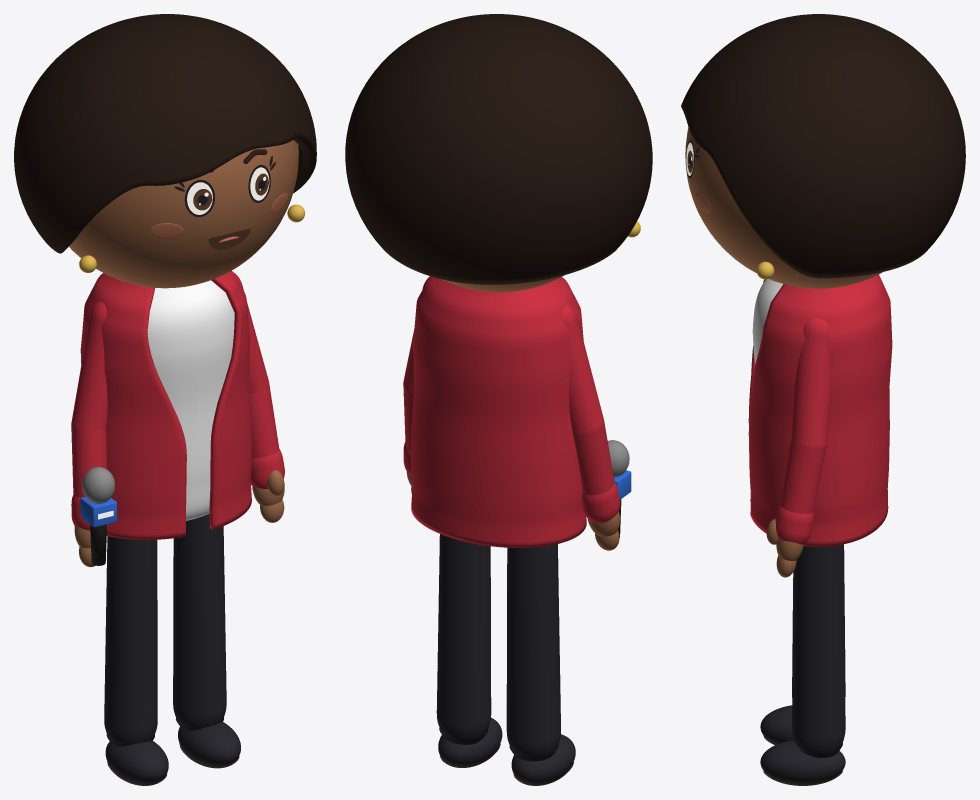
The model's file is nieuwslezeres.glb.
3 views of the same model, side by side, from view 1: azimuth 30°, elevation 25°; view 2: azimuth 150°, elevation 25°; view 3: azimuth 270°, elevation 25° (orthographic).
Parts seen in each view (by area): view 1: nieuwslezeres_haar, nieuwslezeres_jas, nieuwslezeres_hoofd, nieuwslezeres_romp, nieuwslezeres_been_R, nieuwslezeres_been_L, nieuwslezeres_bovenarm_R, nieuwslezeres_schoen_R, nieuwslezeres_schoen_L, nieuwslezeres_onderarm_R, nieuwslezeres_onderarm_L, nieuwslezeres_bovenarm_L (+4 smaller); view 2: nieuwslezeres_haar, nieuwslezeres_jas, nieuwslezeres_been_R, nieuwslezeres_been_L, nieuwslezeres_bovenarm_R, nieuwslezeres_onderarm_R, nieuwslezeres_schoen_R, nieuwslezeres_schoen_L, nieuwslezeres_manchet_R, nieuwslezeres_hoofd, nieuwslezeres_microfoon_kop; view 3: nieuwslezeres_haar, nieuwslezeres_jas, nieuwslezeres_been_L, nieuwslezeres_hoofd, nieuwslezeres_bovenarm_L, nieuwslezeres_schoen_L, nieuwslezeres_onderarm_L, nieuwslezeres_manchet_L, nieuwslezeres_romp, nieuwslezeres_schoen_R.
Boxes of the visible parts, x1,y1,x2,y2 form: nieuwslezeres_haar: (14, 14, 316, 253); nieuwslezeres_jas: (80, 270, 251, 539); nieuwslezeres_hoofd: (69, 140, 298, 288); nieuwslezeres_romp: (147, 280, 234, 520); nieuwslezeres_been_R: (104, 536, 157, 745); nieuwslezeres_been_L: (173, 514, 226, 728); nieuwslezeres_bovenarm_R: (72, 301, 107, 430); nieuwslezeres_schoen_R: (105, 740, 168, 783); nieuwslezeres_schoen_L: (178, 721, 240, 765); nieuwslezeres_onderarm_R: (71, 423, 107, 497); nieuwslezeres_onderarm_L: (249, 384, 279, 458); nieuwslezeres_bovenarm_L: (233, 272, 268, 393); nieuwslezeres_haar: (345, 14, 652, 284); nieuwslezeres_jas: (411, 276, 586, 547); nieuwslezeres_been_R: (506, 544, 560, 756); nieuwslezeres_been_L: (436, 534, 491, 739); nieuwslezeres_bovenarm_R: (561, 304, 603, 435); nieuwslezeres_onderarm_R: (573, 422, 614, 495); nieuwslezeres_schoen_R: (511, 734, 575, 783); nieuwslezeres_schoen_L: (438, 717, 502, 765); nieuwslezeres_manchet_R: (582, 482, 620, 523); nieuwslezeres_hoofd: (440, 275, 564, 292); nieuwslezeres_microfoon_kop: (607, 440, 629, 477); nieuwslezeres_haar: (681, 14, 965, 278); nieuwslezeres_jas: (748, 274, 892, 546); nieuwslezeres_been_L: (792, 544, 845, 753); nieuwslezeres_hoofd: (685, 127, 882, 288); nieuwslezeres_bovenarm_L: (791, 317, 830, 449); nieuwslezeres_schoen_L: (760, 740, 845, 781); nieuwslezeres_onderarm_L: (780, 440, 826, 514); nieuwslezeres_manchet_L: (775, 504, 813, 544); nieuwslezeres_romp: (752, 279, 783, 364); nieuwslezeres_schoen_R: (760, 705, 793, 743).
Bounding box in the file's own units: 0.6657 × 1.77 × 0.6211.
